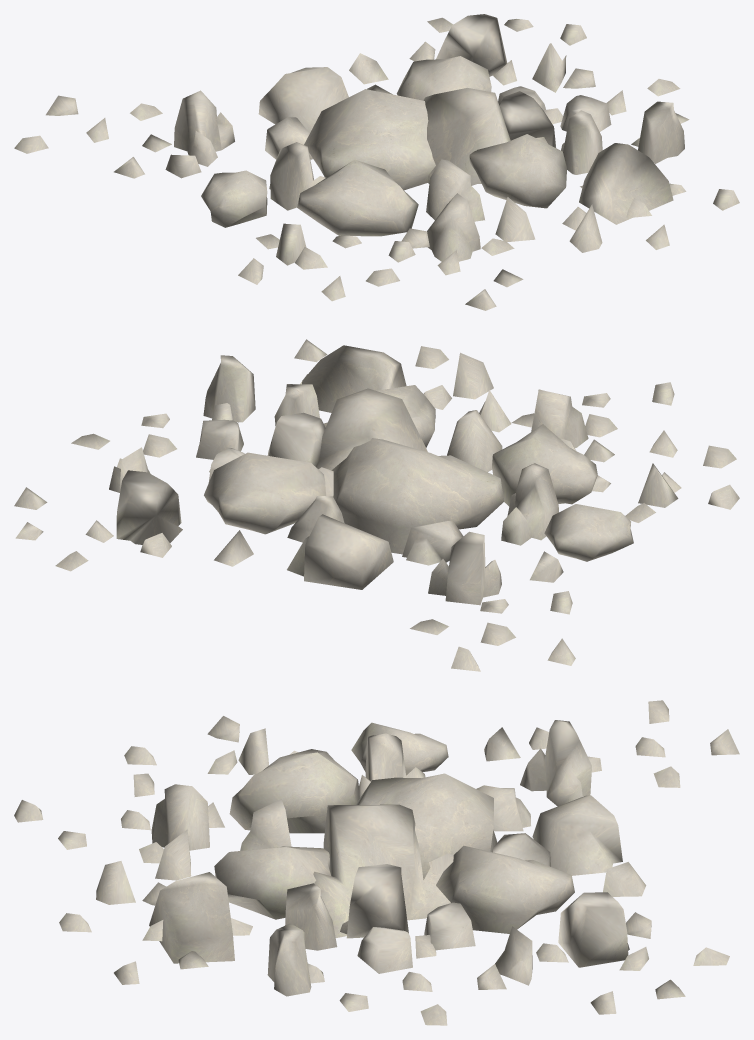
Rendered from ground-gravel.glb.
The picture shows the model from 3 angles, top to bottom: view 1: azimuth 30°, elevation 25°; view 2: azimuth 150°, elevation 25°; view 3: azimuth 270°, elevation 25°; orthographic projection. The views are drawn at different scales.
Visible parts, largest first — view 1: 立方体.004; view 2: 立方体.004; view 3: 立方体.004.
Part boxes in pixels (x1,y1,x2,y2): 立方体.004: [14, 14, 739, 310]; 立方体.004: [14, 339, 739, 671]; 立方体.004: [14, 700, 739, 1025].
Bounding box in the file's own units: 41.02 × 6.14 × 39.78.
Materials: 1 (1 with a texture image).
